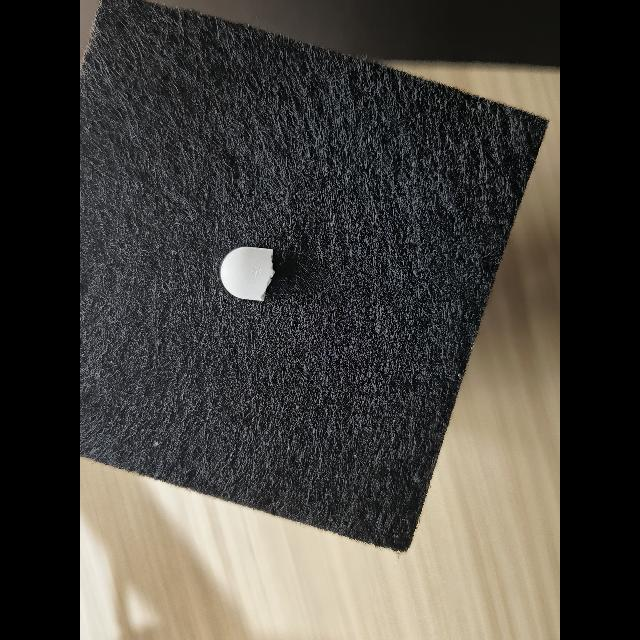Chipped Pill: (220, 247, 275, 301)
